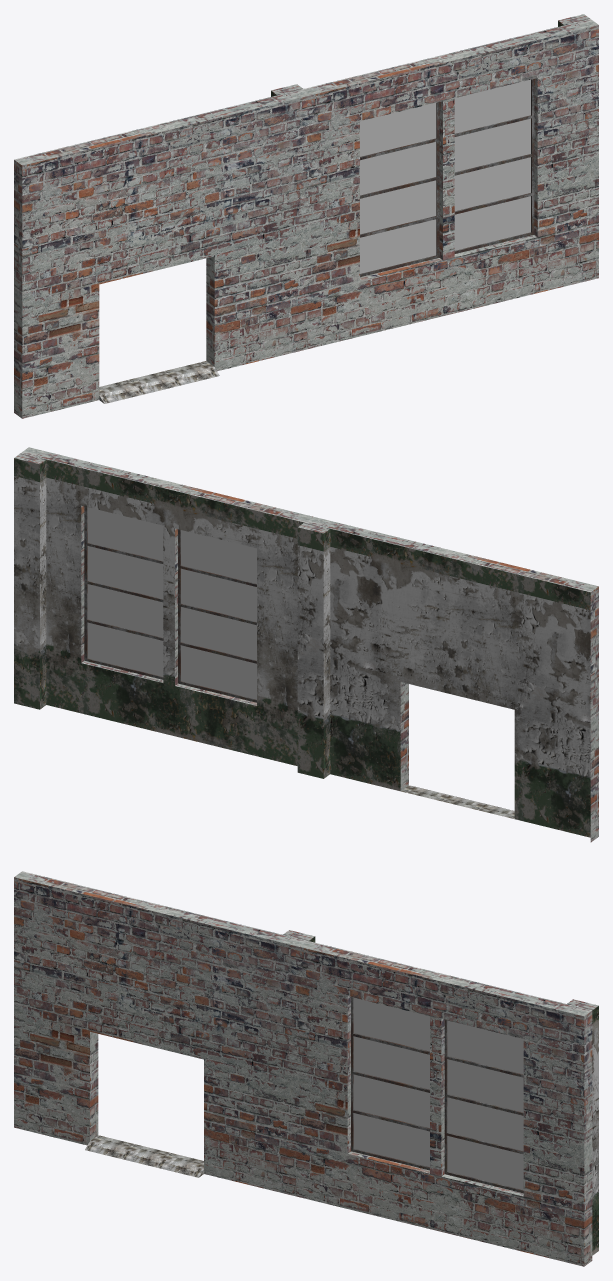
File: Factory2Wall06.FBX
The picture shows the model from 3 angles, top to bottom: view 1: azimuth 30°, elevation 25°; view 2: azimuth 150°, elevation 25°; view 3: azimuth 330°, elevation 25°; orthographic projection.
Visible parts, largest first — view 1: Factory2Wall06, Factory2Wall06Glass; view 2: Factory2Wall06, Factory2Wall06Glass; view 3: Factory2Wall06, Factory2Wall06Glass.
Boxes of the visible parts, <box> form: Factory2Wall06: <box>14,14,598,418</box>; Factory2Wall06Glass: <box>360,79,530,273</box>; Factory2Wall06: <box>14,447,598,842</box>; Factory2Wall06Glass: <box>87,507,256,699</box>; Factory2Wall06: <box>14,871,598,1266</box>; Factory2Wall06Glass: <box>353,998,523,1189</box>.
Size of the model in its own units: 1200 by 503 by 73.32.
